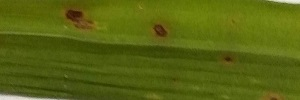RiceBlast: (61, 5, 95, 33), (148, 19, 176, 47), (221, 50, 235, 67)
